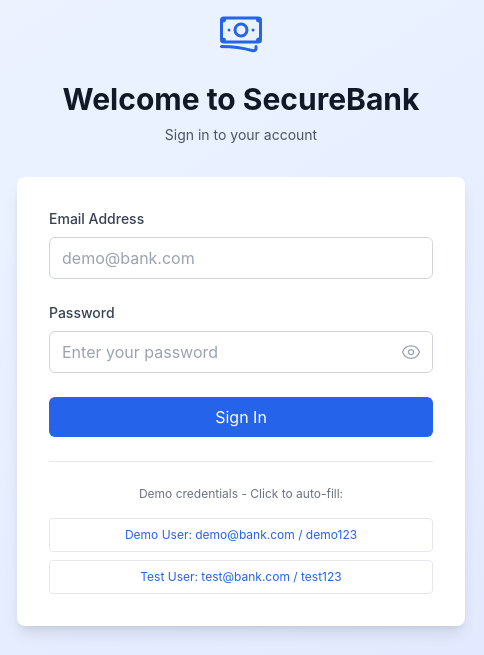
Scenario: Login › fills demo credentials when demo button is clicked
This screenshot has width=484, height=655.
Click the button "Demo User: demo@bank.com / demo123" at (241, 534), box [49, 518, 433, 552]
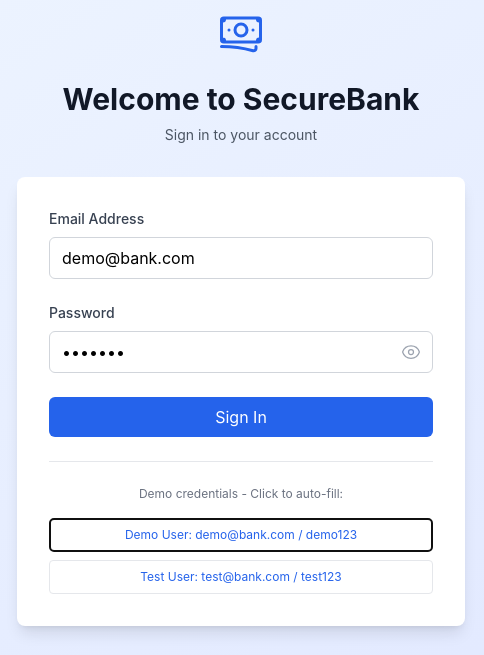
expect the field with placeholder "demo@bank.com" holds "demo@bank.com": met, box [49, 236, 433, 278]
expect the password field with placeholder "Enter your password" holds "demo123": met, box [49, 330, 433, 372]
